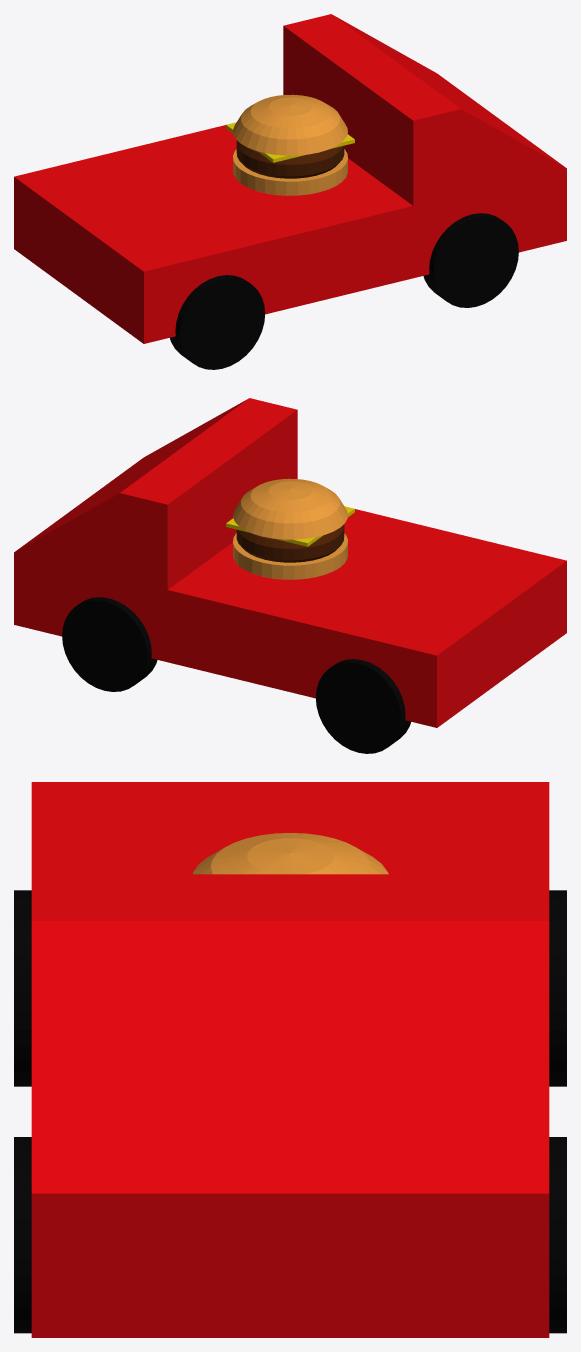
The model's file is Car.fbx.
The picture shows the model from 3 angles, top to bottom: view 1: azimuth 30°, elevation 25°; view 2: azimuth 150°, elevation 25°; view 3: azimuth 270°, elevation 25°; orthographic projection. The views are drawn at different scales.
Parts seen in each view (by area): view 1: Car, Button, RightDown, RightUp; view 2: Car, Button, LeftDown, LeftUp; view 3: Car, Button, LeftDown, LeftUp, RightUp, RightDown.
Part boxes in pixels (x1,y1,x2,y2): Car: (14, 14, 566, 343); Button: (226, 94, 354, 195); RightDown: (170, 275, 265, 369); RightUp: (423, 213, 518, 307); Car: (14, 398, 566, 727); Button: (226, 478, 354, 579); LeftDown: (315, 659, 410, 753); LeftUp: (62, 597, 157, 691); Car: (31, 782, 549, 1337); Button: (192, 833, 388, 874); LeftDown: (549, 890, 566, 1086); LeftUp: (549, 1137, 566, 1333); RightUp: (14, 1137, 31, 1333); RightDown: (14, 890, 31, 1086).
Size of the model in its own units: 3.76 by 1.68 by 2.14.
